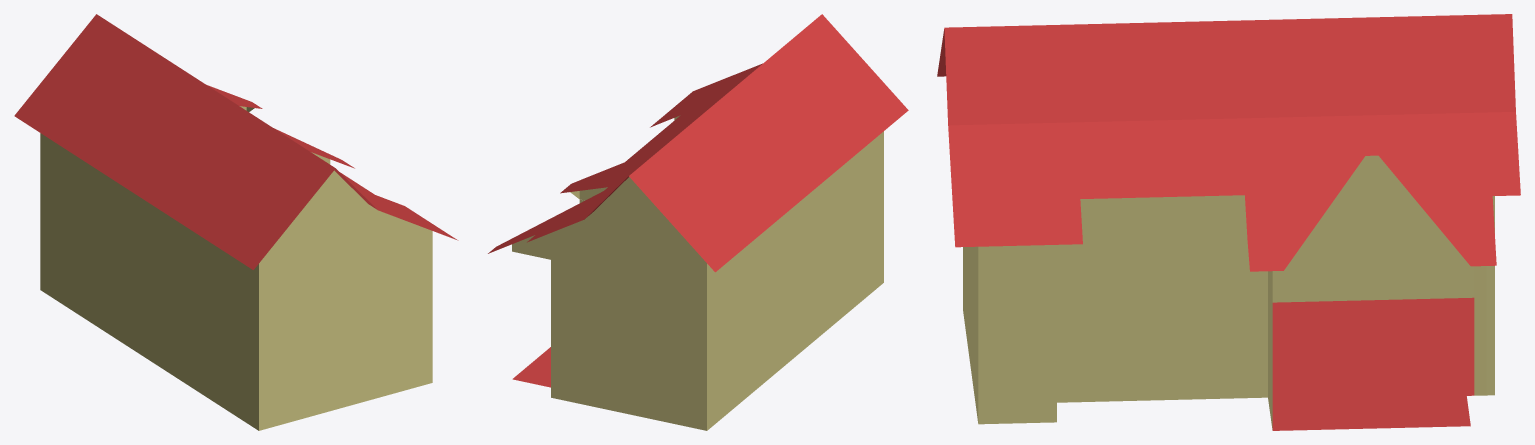
3 views of the same model, side by side, from view 1: azimuth 30°, elevation 25°; view 2: azimuth 150°, elevation 25°; view 3: azimuth 270°, elevation 25° (orthographic). The views are drawn at different scales.
Bounding box in the file's own units: 14.99 × 23.81 × 14.71.
